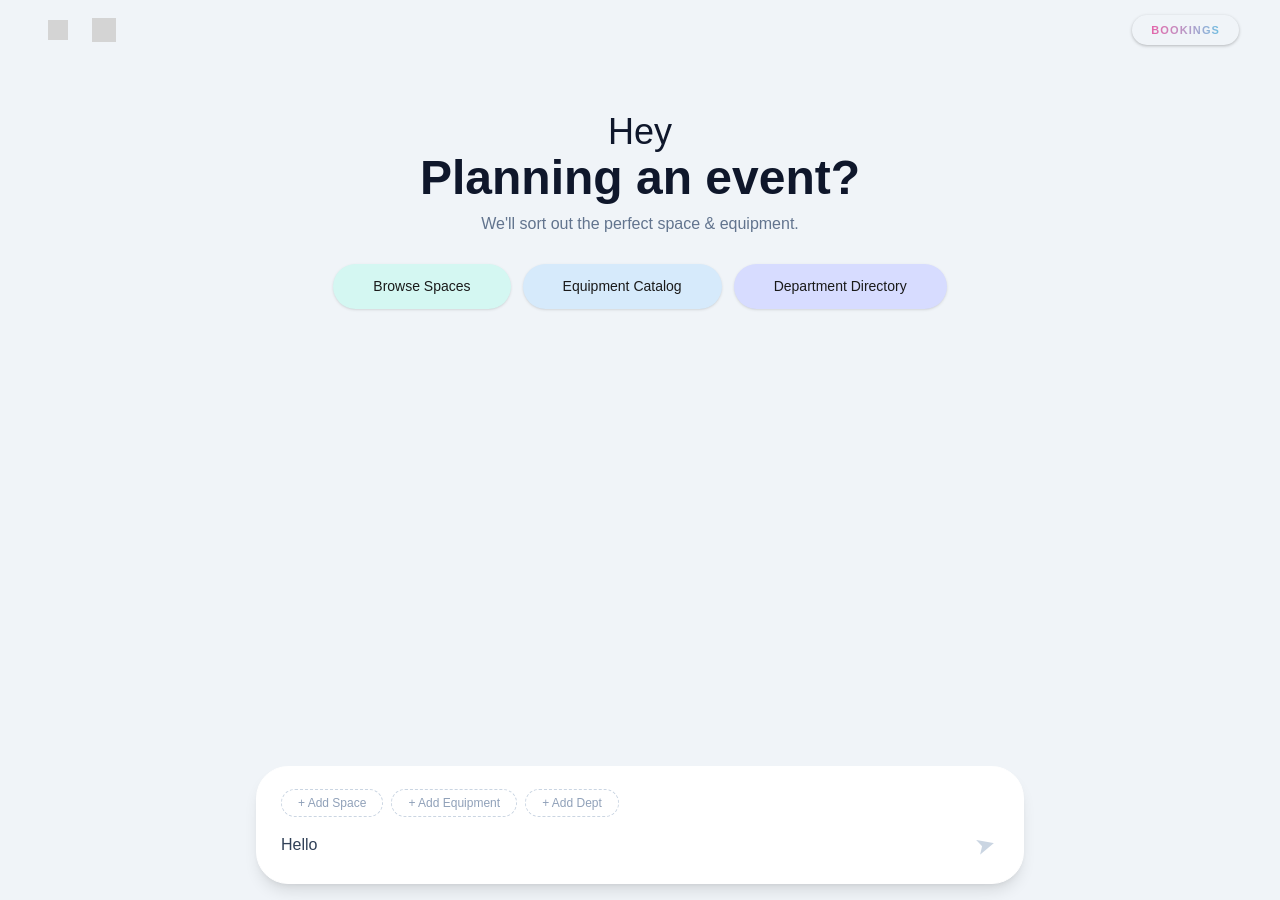
it: MainChat Component › handles server returning no reply field gracefully
Click the button "➤": (985, 845) 971,829 -> 999,861
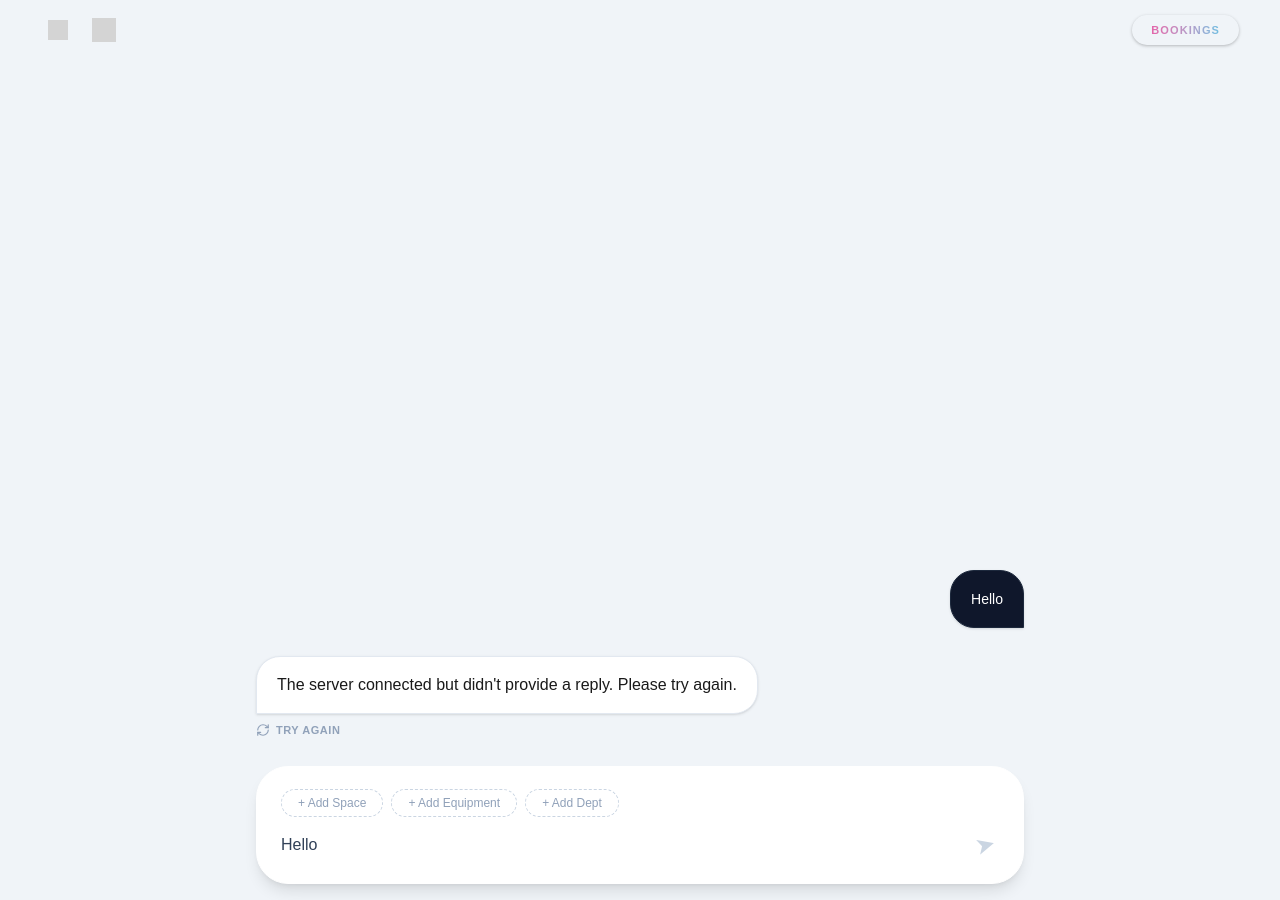
Now the text "The server connected but didn't provide a reply. Please try again." is shown, box 277,672 -> 737,696
